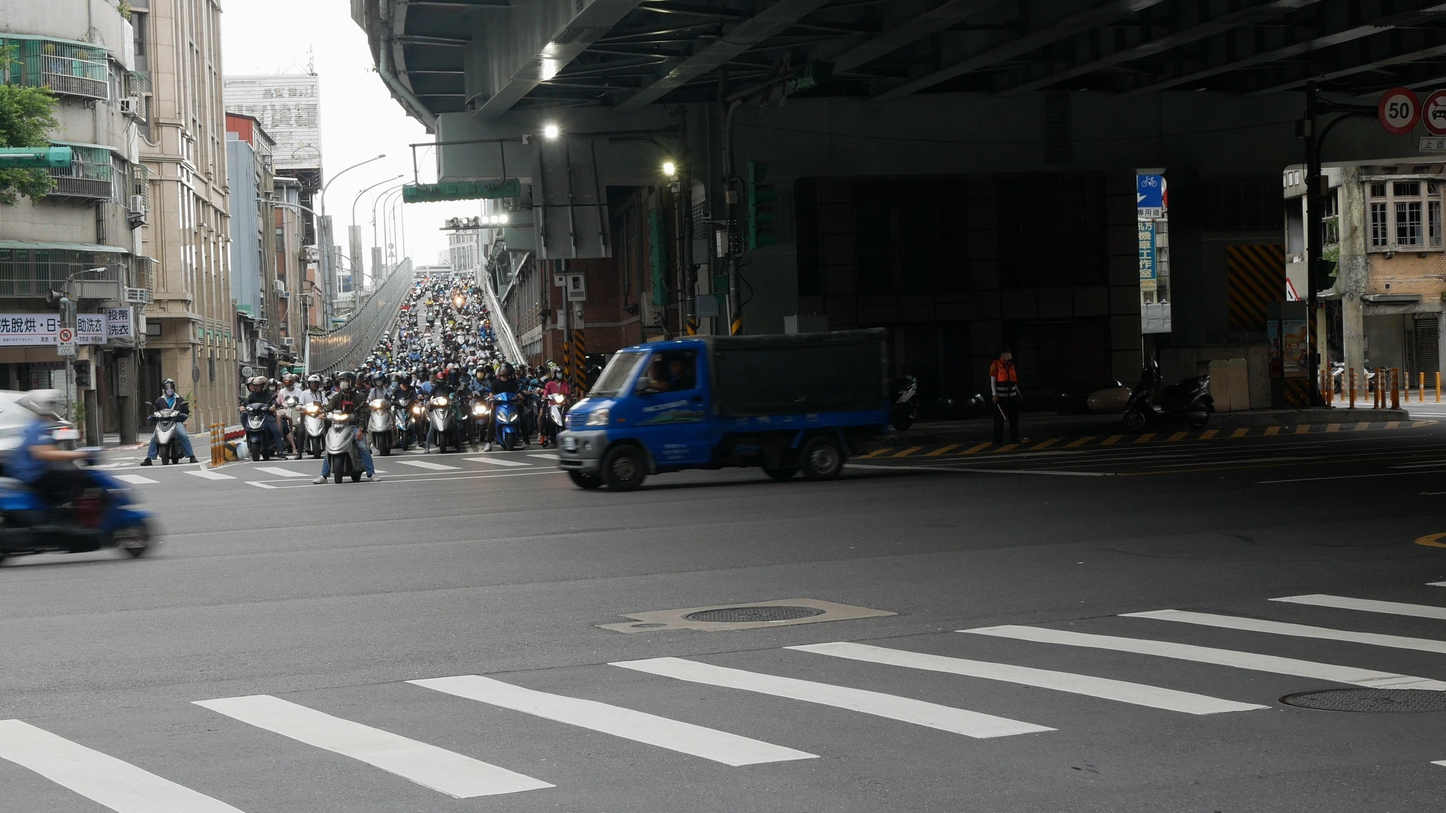driver: (0, 389, 161, 564), (311, 372, 380, 484), (140, 378, 199, 466), (237, 376, 288, 462), (483, 361, 531, 452), (536, 362, 579, 449), (360, 370, 401, 456), (293, 374, 332, 460), (425, 372, 465, 454), (393, 371, 426, 451)
helmet: (24, 388, 65, 416), (338, 372, 356, 391), (252, 376, 269, 395), (161, 378, 175, 396), (307, 374, 321, 392), (371, 371, 386, 387), (498, 362, 514, 377), (435, 372, 448, 389), (283, 374, 295, 392), (550, 366, 564, 380), (321, 377, 334, 392), (416, 365, 428, 381), (547, 361, 559, 377), (401, 372, 413, 387), (245, 377, 256, 392), (475, 365, 486, 379), (535, 365, 546, 379), (268, 378, 278, 392), (428, 368, 438, 381)
